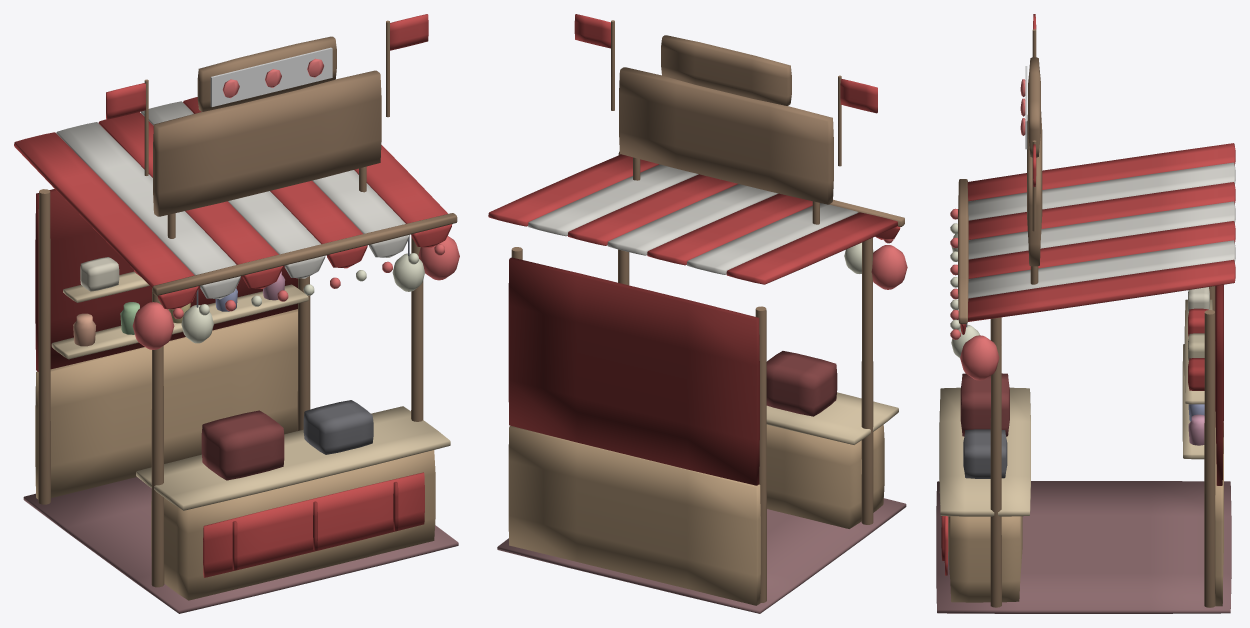
The model's file is stall_rival.glb.
3 renders of one model, left to right at view 1: azimuth 30°, elevation 25°; view 2: azimuth 150°, elevation 25°; view 3: azimuth 270°, elevation 25°, orthographic. The views are drawn at different scales.
Parts seen in each view (by area): view 1: body, level3, level2; view 2: body, level3, level2; view 3: body, level2, level3.
Boxes of the visible parts, box(x1,y1,x2,y2) form: body: box(14, 70, 458, 613); level3: box(106, 14, 428, 175); level2: box(63, 236, 459, 349); body: box(488, 67, 906, 613); level3: box(574, 14, 877, 166); level2: box(871, 239, 907, 289); body: box(936, 112, 1235, 613); level2: box(950, 208, 1212, 404); level3: box(1020, 14, 1040, 231).
Size of the model in its own units: 3.2 by 4.68 by 2.73.
